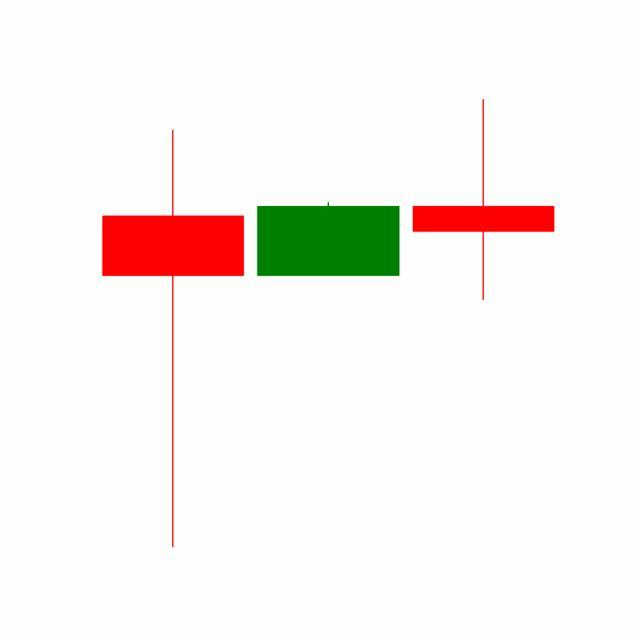Marubozu: (250, 202, 407, 277)
